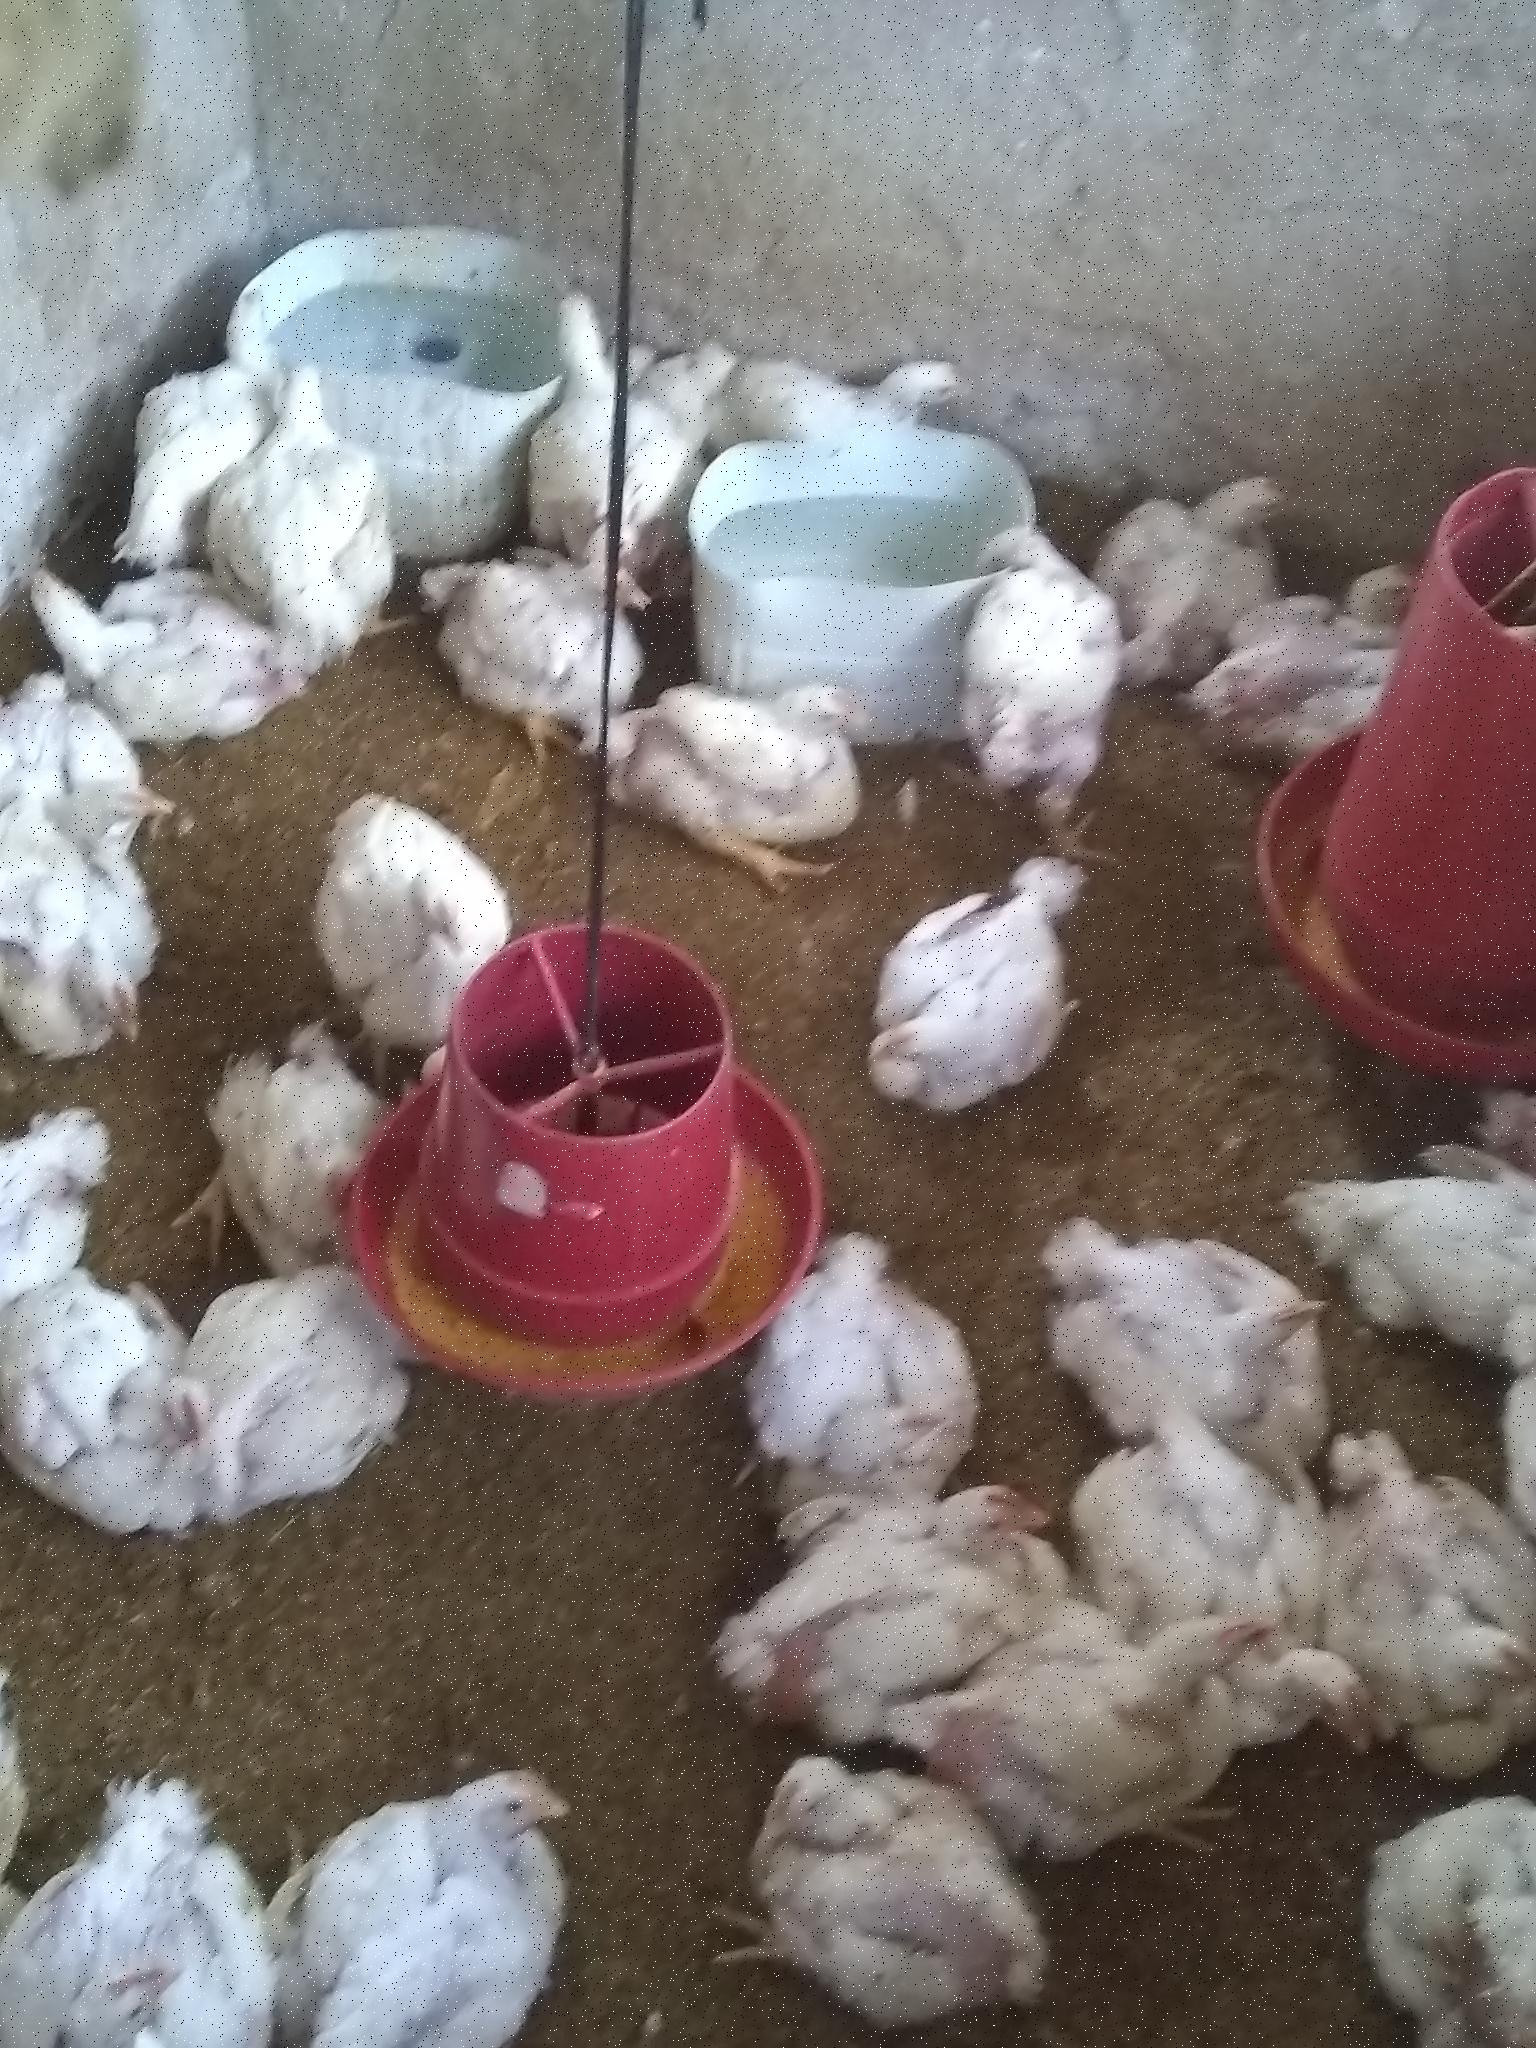Pollos: (694, 1442, 1037, 1738), (1079, 1435, 1379, 1743), (289, 1751, 599, 2048), (1057, 1169, 1347, 1474), (715, 1771, 1055, 2030), (976, 1617, 1281, 1892), (2, 1767, 271, 2048), (194, 1245, 440, 1532), (712, 1227, 992, 1479), (863, 835, 1083, 1142), (342, 747, 521, 1087), (1312, 1101, 1536, 1364), (942, 522, 1128, 824), (1331, 1438, 1534, 1711), (189, 993, 395, 1245), (653, 668, 904, 868), (392, 537, 644, 731), (24, 552, 261, 755), (1370, 1766, 1536, 2048), (227, 360, 403, 626), (23, 1282, 200, 1529), (1208, 563, 1441, 742), (1100, 464, 1309, 656), (126, 287, 273, 543), (3, 669, 176, 871), (537, 289, 663, 535), (2, 868, 157, 1061), (733, 347, 979, 456), (2, 1109, 123, 1264), (623, 326, 758, 450)
